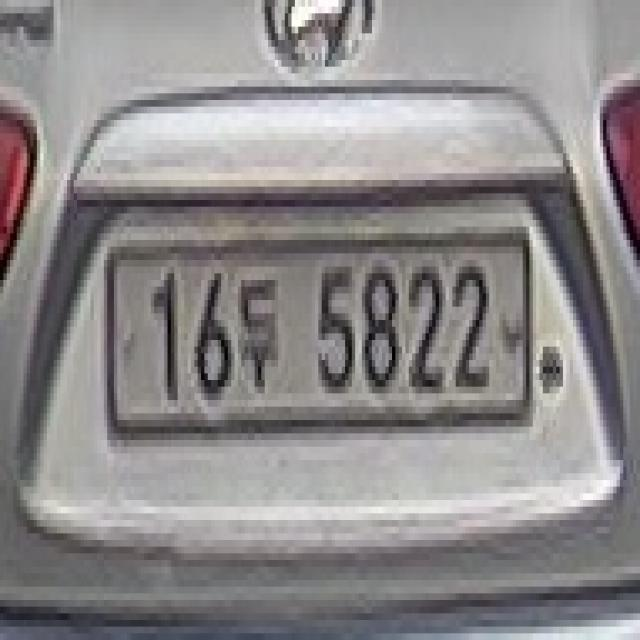1: (148, 253, 188, 420)
2: (446, 246, 492, 406), (402, 253, 446, 407)
5: (312, 253, 358, 400)
6: (191, 267, 238, 413)
8: (359, 240, 402, 413)
du: (238, 260, 288, 413)
license_plate: (97, 214, 540, 454)
